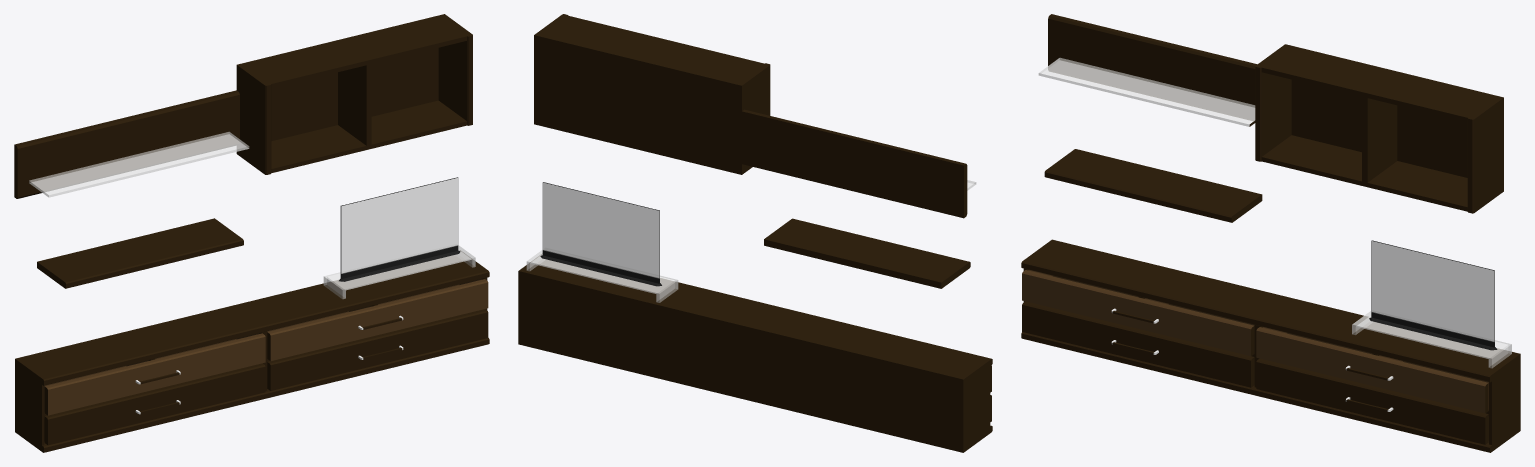
File: 1712383237055livingroom_furniture.glb
3 renders of one model, left to right at view 1: azimuth 30°, elevation 25°; view 2: azimuth 150°, elevation 25°; view 3: azimuth 330°, elevation 25°, orthographic. The views are drawn at different scales.
Visible parts, largest first — view 1: furniture, shelves, glass shelf, TV, wood shelf, TV glass support; view 2: furniture, shelves, glass shelf, TV, wood shelf, TV glass support; view 3: furniture, shelves, glass shelf, TV, wood shelf, TV glass support.
Part boxes in pixels (x1,y1,x2,y2): furniture: [15, 250, 489, 452]; shelves: [236, 14, 472, 174]; glass shelf: [14, 90, 249, 198]; TV: [339, 177, 460, 281]; wood shelf: [37, 218, 243, 288]; TV glass support: [323, 244, 475, 298]; furniture: [518, 254, 992, 452]; shelves: [534, 14, 770, 174]; glass shelf: [742, 109, 976, 218]; TV: [540, 182, 661, 286]; wood shelf: [764, 218, 970, 288]; TV glass support: [526, 248, 678, 302]; furniture: [1021, 239, 1520, 452]; shelves: [1255, 44, 1503, 213]; glass shelf: [1038, 14, 1257, 126]; TV: [1369, 240, 1497, 350]; wood shelf: [1044, 149, 1262, 222]; TV glass support: [1352, 311, 1511, 368].
Size of the model in its own units: 2.21 by 1.48 by 0.2925.
